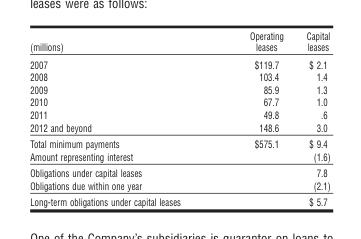table: (29, 28, 329, 207)
table column: (29, 28, 214, 207), (214, 28, 294, 207), (294, 28, 329, 207)
table column header: (29, 28, 329, 54)
table row: (29, 28, 329, 54), (29, 54, 329, 70), (29, 120, 329, 135), (29, 149, 329, 164), (29, 178, 329, 193), (29, 135, 329, 149), (29, 164, 329, 178), (29, 193, 329, 207), (29, 82, 329, 95), (29, 95, 329, 108), (29, 70, 329, 82), (29, 108, 329, 120)
